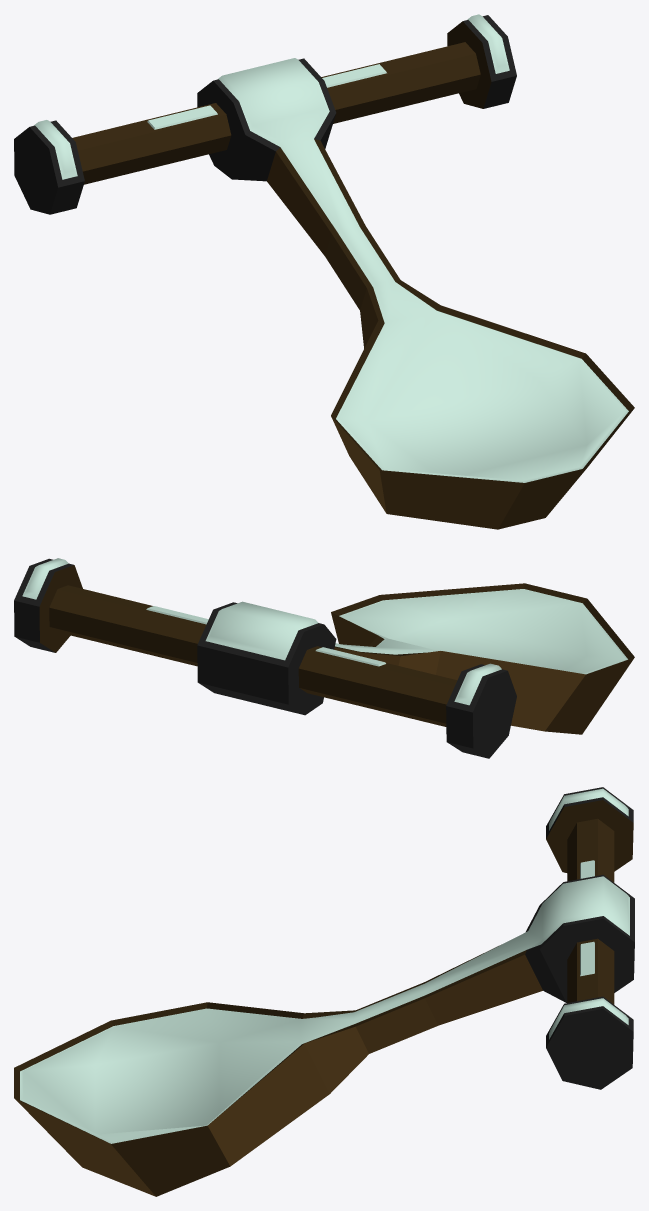
The model's file is winter-catapult-arm.glb.
The picture shows the model from 3 angles, top to bottom: view 1: azimuth 30°, elevation 25°; view 2: azimuth 150°, elevation 25°; view 3: azimuth 270°, elevation 25°; orthographic projection.
Parts seen in each view (by area): view 1: WinterCatapultArm; view 2: WinterCatapultArm; view 3: WinterCatapultArm.
Part boxes in pixels (x1=…): WinterCatapultArm: x1=14, y1=14, x2=634, y2=529; WinterCatapultArm: x1=14, y1=558, x2=634, y2=758; WinterCatapultArm: x1=14, y1=787, x2=634, y2=1196.
Size of the model in its own units: 193 by 106 by 228.
1 material, 1 textured.
